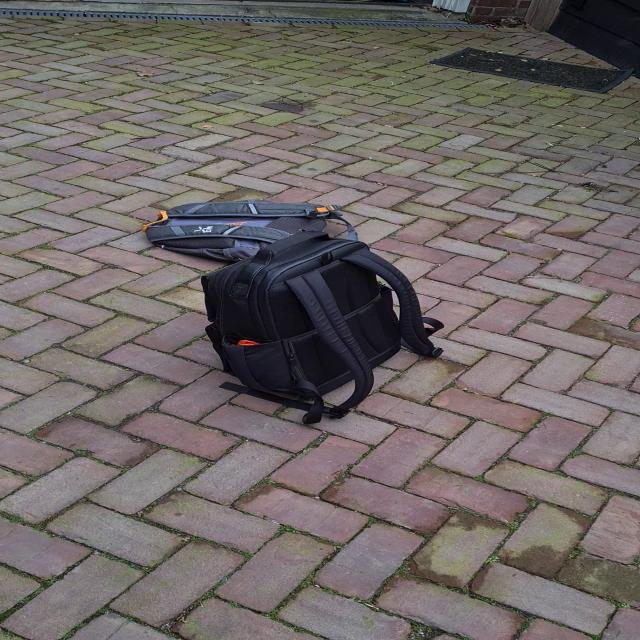backpack: (204, 234, 439, 424), (139, 200, 361, 264)
